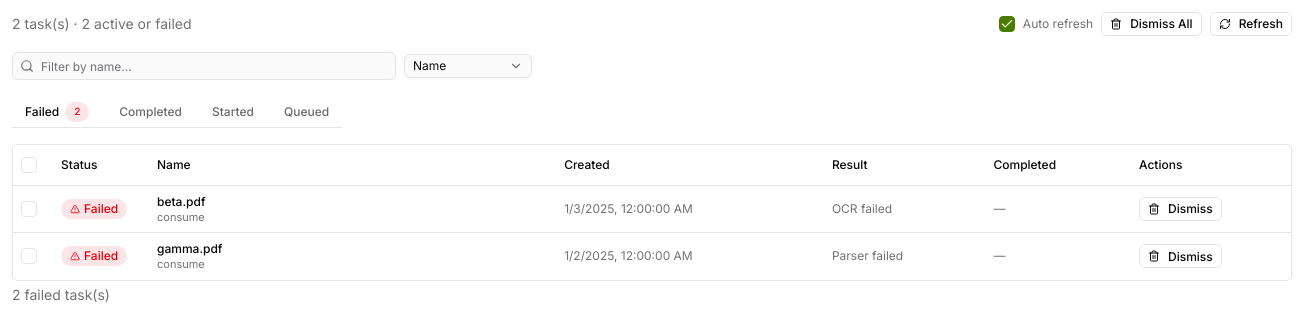
Scenario: TasksView refinements › dismisses only the selected tasks
Expected: the text "beta.pdf" is shown, 157,194 -> 206,208
Click the checkbox named "Select beta.pdf".
click(29, 209)  # box 21,201 -> 37,217
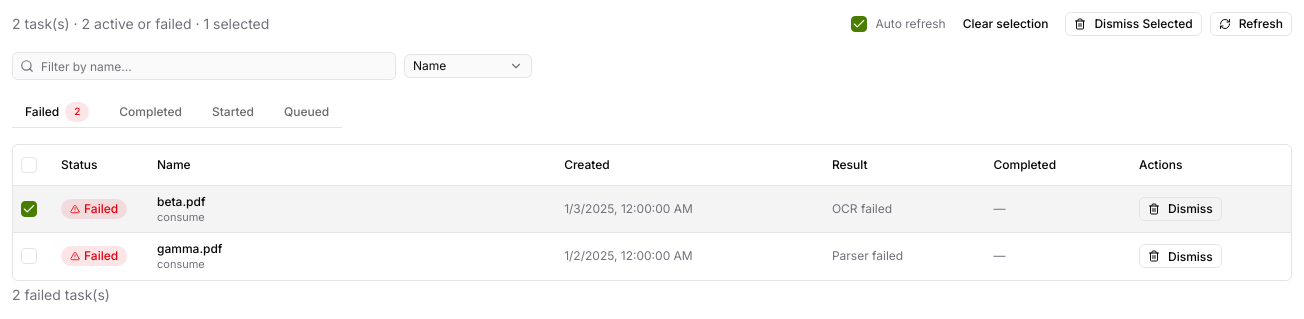
Click the button "Dismiss Selected".
click(1134, 24)  # box 1066,12 -> 1202,36
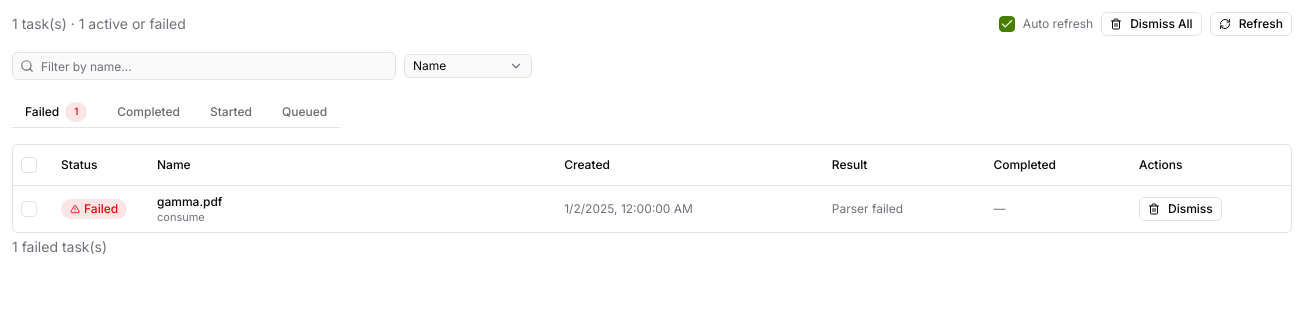
Expected: the text "gamma.pdf" is shown, 157,194 -> 222,208
Now the text "beta.pdf" is gone
